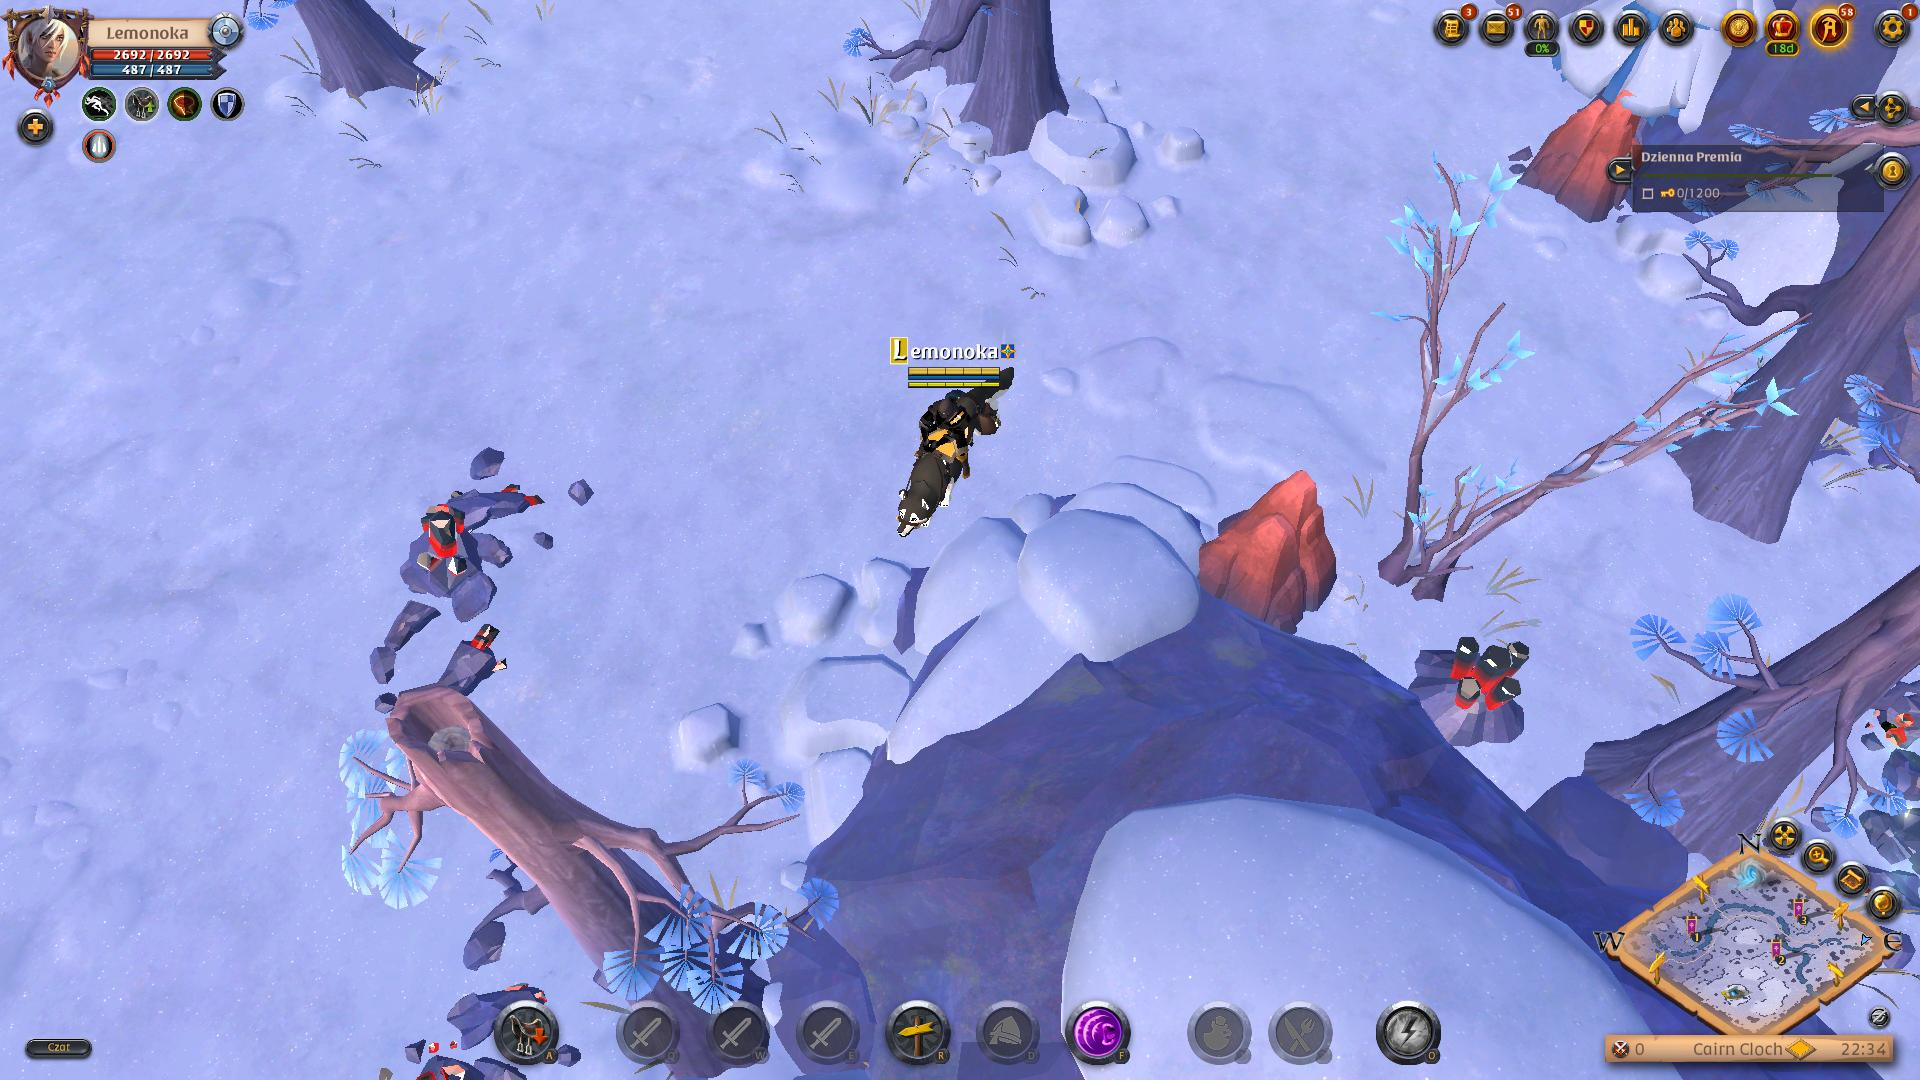ore tier 5: (1402, 628, 1535, 760)
rock tier 5: (1189, 463, 1341, 638)
